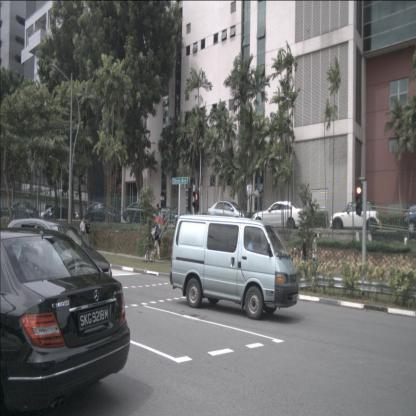cone: (378, 220, 383, 232)
